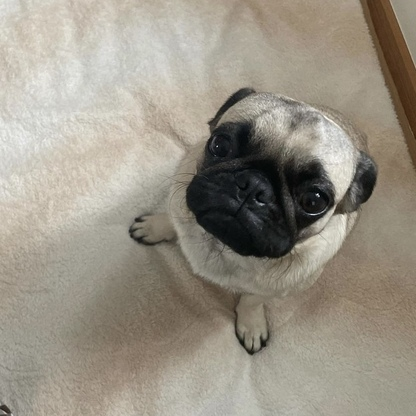Pug: (118, 76, 383, 363)
